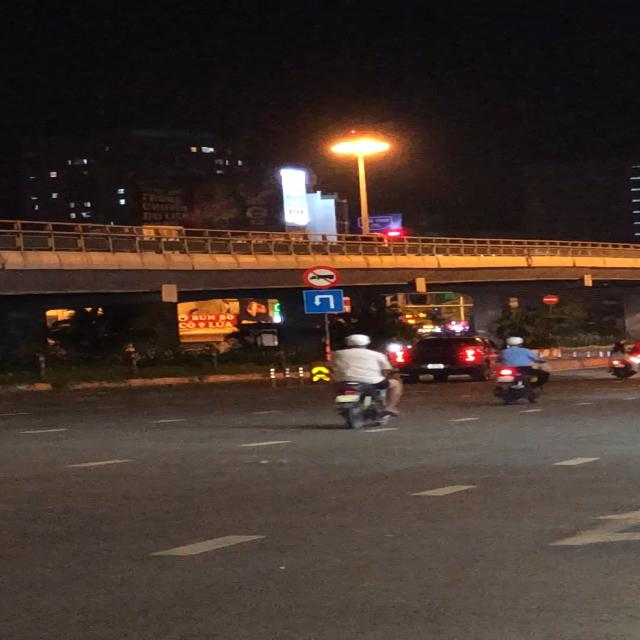Bien bao cam xe so-mi ro-mooc: (300, 265, 340, 289)
